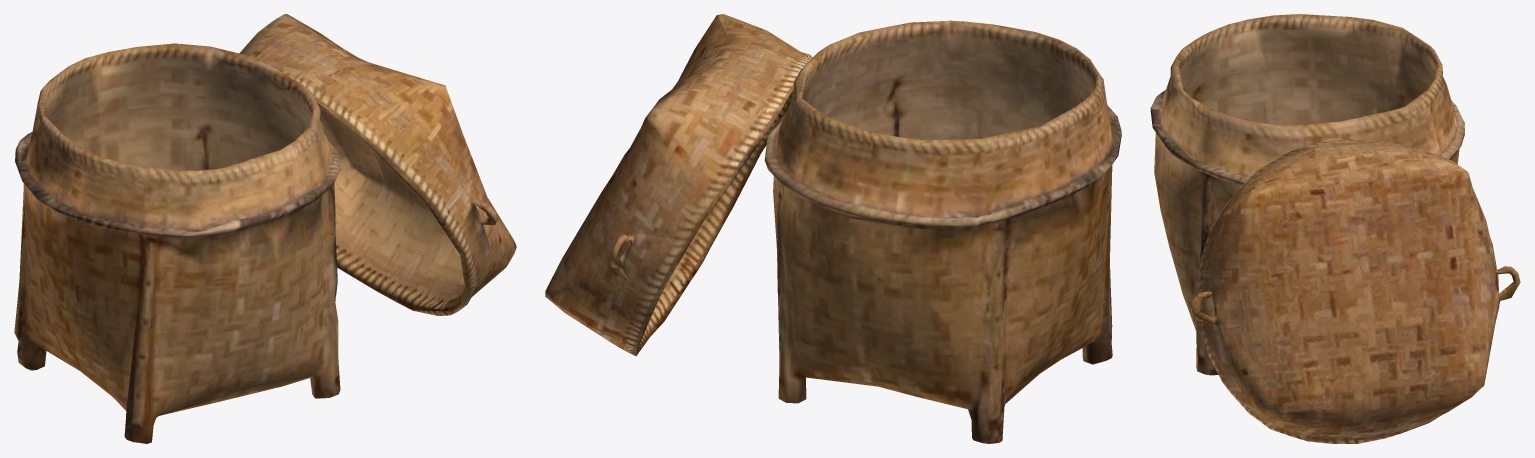
File: wicker_basket_02.glb
3 views of the same model, side by side, from view 1: azimuth 30°, elevation 25°; view 2: azimuth 150°, elevation 25°; view 3: azimuth 270°, elevation 25° (orthographic). The views are drawn at different scales.
Visible parts, largest first — view 1: wicker_basket_02_base; view 2: wicker_basket_02_base; view 3: wicker_basket_02_base.
Part boxes in pixels (left/top/right/bottom): wicker_basket_02_base: left=14, top=14, right=516, bottom=443; wicker_basket_02_base: left=545, top=14, right=1121, bottom=443; wicker_basket_02_base: left=1150, top=14, right=1520, bottom=443.
Size of the model in its own units: 0.3469 by 0.2003 by 0.2541.
Materials: 1 (1 with a texture image).
